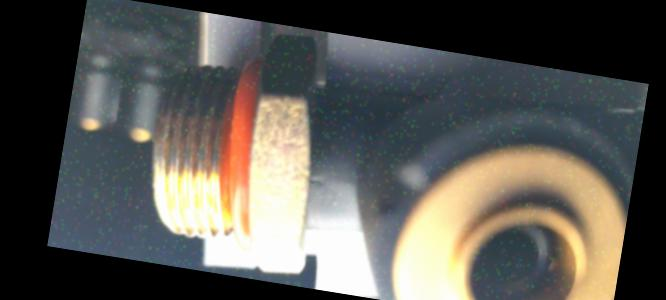bump: (375, 157, 435, 220)
white mark: (305, 171, 329, 191)
